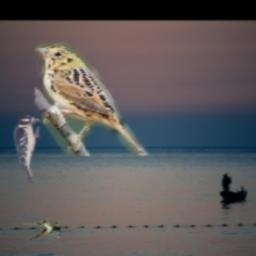Sparrow: (35, 43, 149, 156)
Swallow: (23, 220, 62, 241)
Woodpecker: (13, 114, 41, 184)
